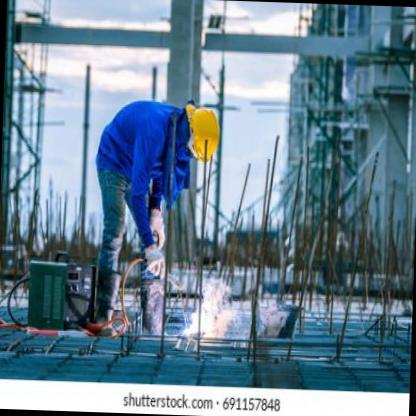Gloves: (142, 243, 168, 282), (147, 206, 168, 250)
